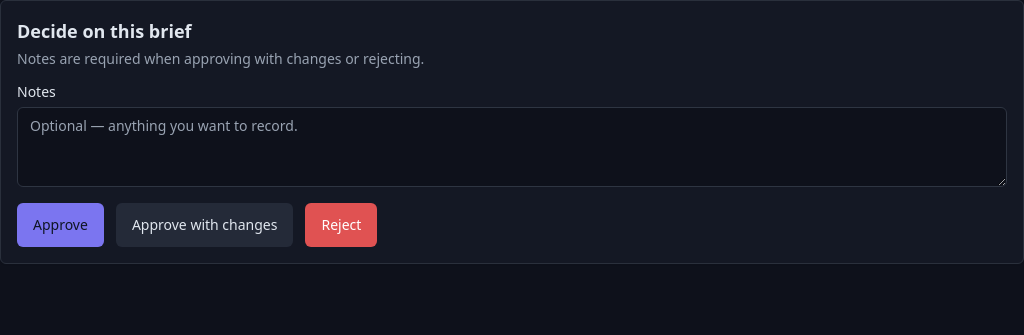
Test: ApprovalGate › requires notes when clicking Approve with changes
The width and height of the screenshot is (1024, 335).
Click the button "Approve with changes".
click(205, 225)  # box left=116, top=203, right=294, bottom=247
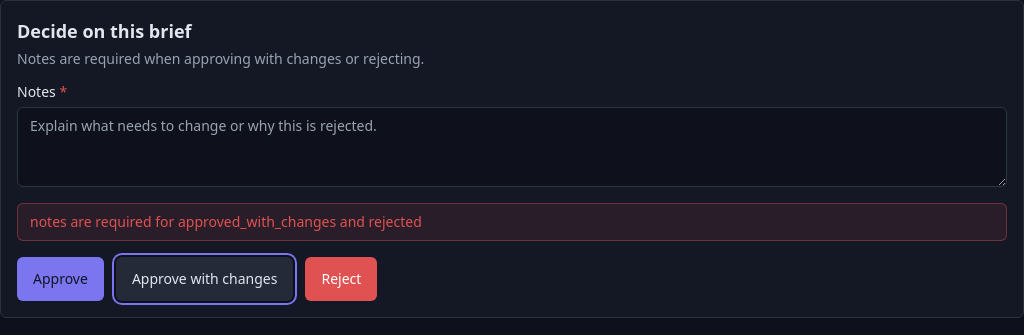
Result: the message "notes are required for approved_with_changes and rejected" is shown at left=17, top=203, right=1007, bottom=241
